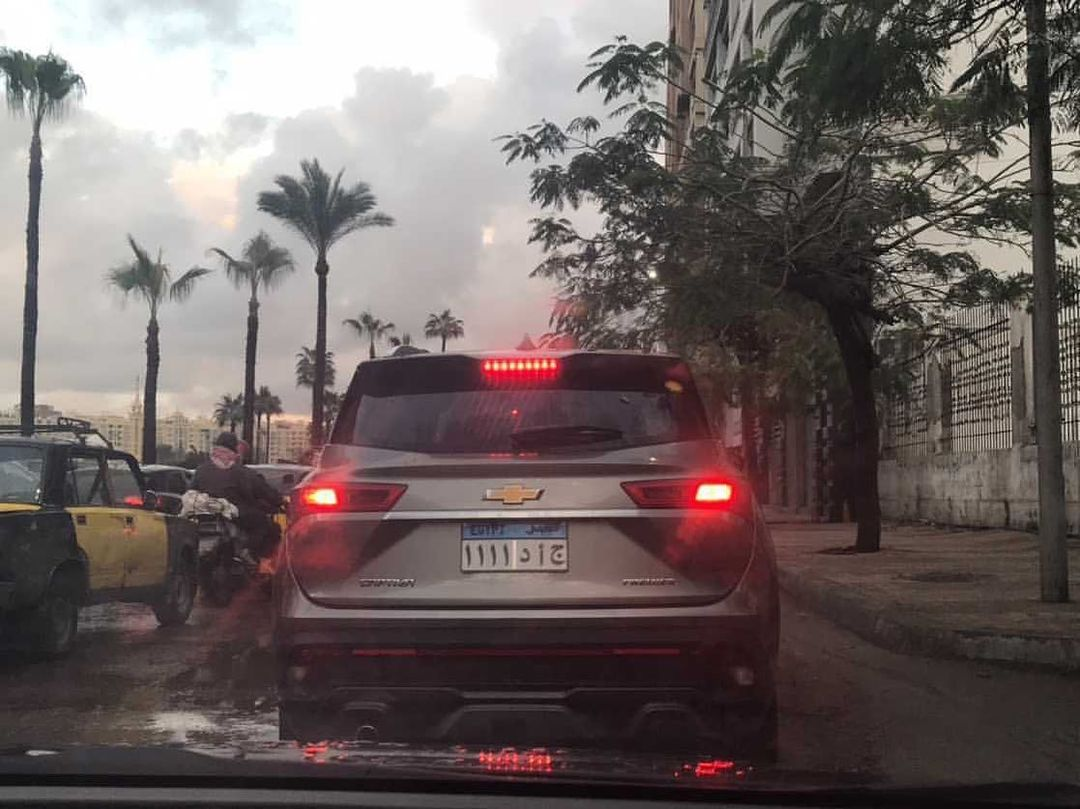carpl: (454, 513, 568, 578)
